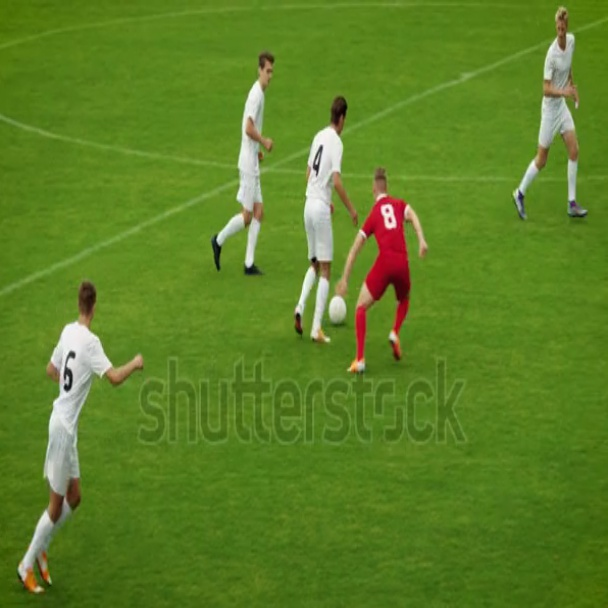ball: (332, 292, 348, 327)
